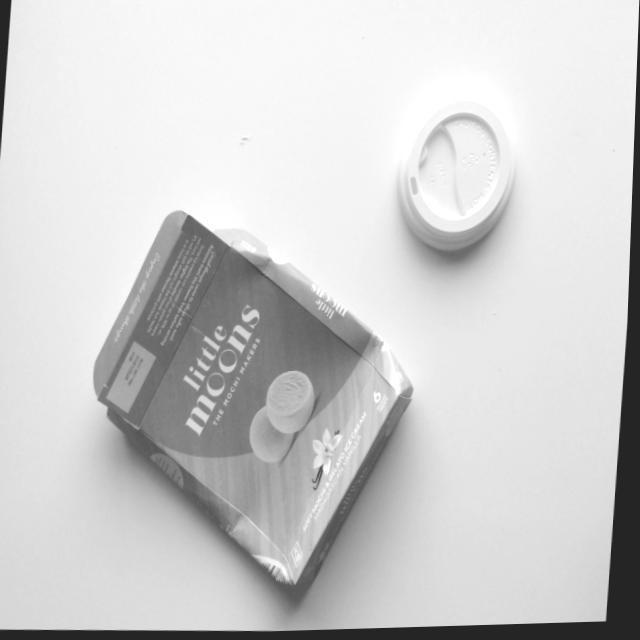Cardboard: (65, 184, 443, 632)
Plastic: (384, 71, 538, 285)
